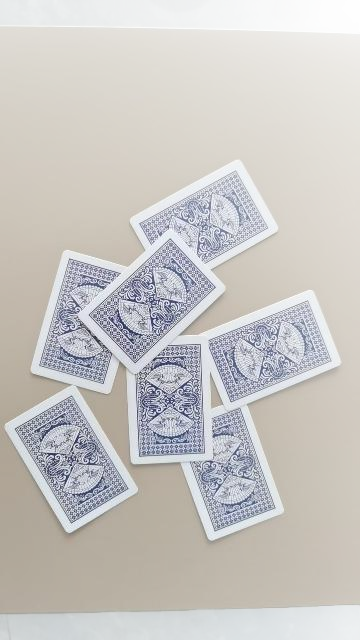card: (79, 230, 225, 374), (5, 386, 138, 532), (130, 160, 278, 269), (205, 291, 340, 410), (181, 408, 284, 540), (31, 250, 125, 394), (126, 335, 212, 464)
